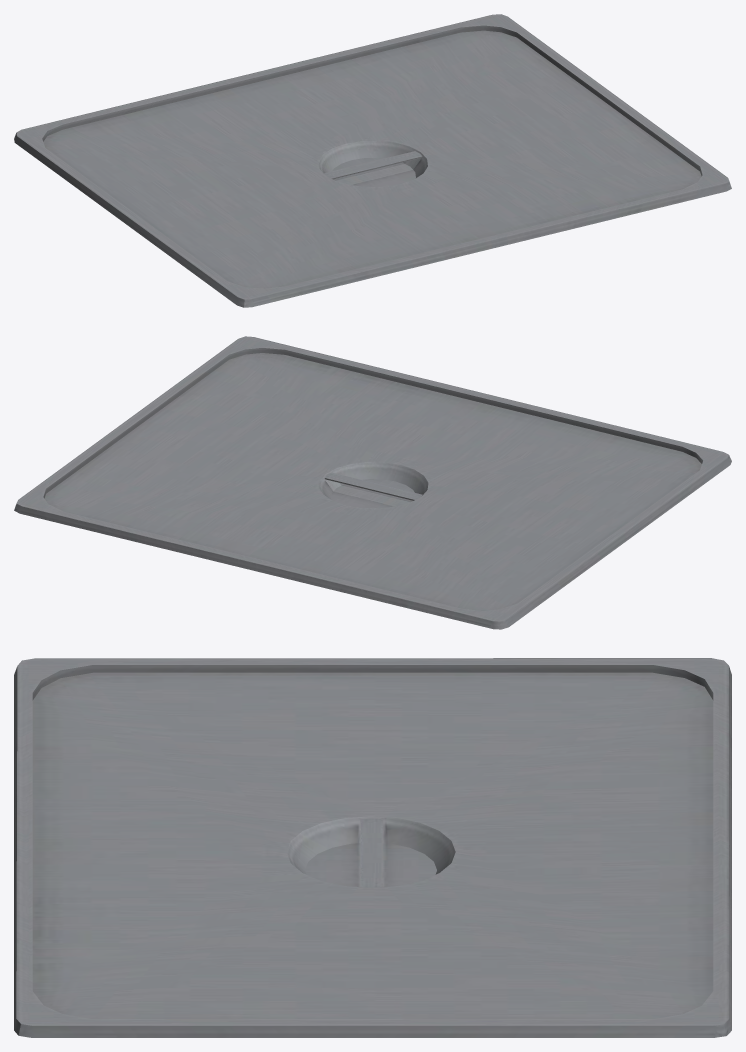
Rendered from SM_Hotel_Pan_2_1_Lid_01.glb.
The picture shows the model from 3 angles, top to bottom: view 1: azimuth 30°, elevation 25°; view 2: azimuth 150°, elevation 25°; view 3: azimuth 270°, elevation 25°; orthographic projection. The views are drawn at different scales.
Visible parts, largest first — view 1: SM_Hotel_Pan_2_1_Lid_01; view 2: SM_Hotel_Pan_2_1_Lid_01; view 3: SM_Hotel_Pan_2_1_Lid_01.
Boxes of the visible parts, box(x1,y1,x2,y2) form: SM_Hotel_Pan_2_1_Lid_01: box(14, 14, 731, 307); SM_Hotel_Pan_2_1_Lid_01: box(14, 336, 731, 629); SM_Hotel_Pan_2_1_Lid_01: box(14, 658, 731, 1037).
Size of the model in its own units: 0.6499 by 0.0255 by 0.5325.
Materials: 1 (1 with a texture image).
